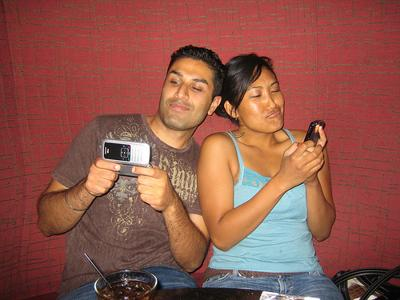person: (38, 44, 223, 300)
